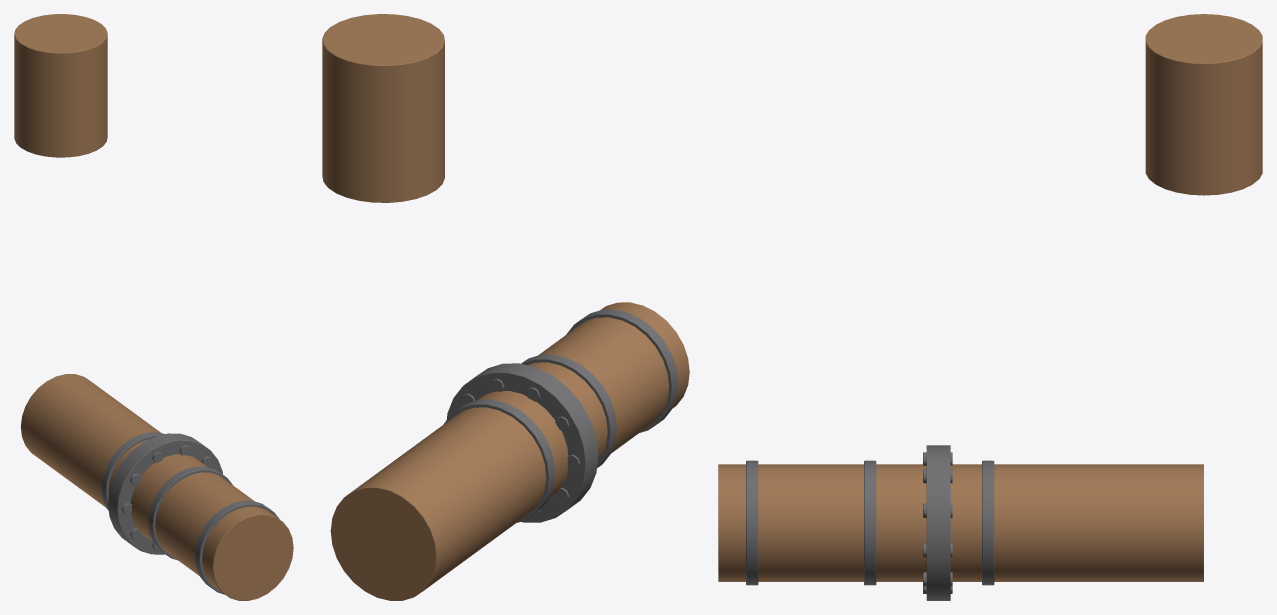
File: LV_pipe_flange.fbx
3 renders of one model, left to right at view 1: azimuth 30°, elevation 25°; view 2: azimuth 150°, elevation 25°; view 3: azimuth 270°, elevation 25°, orthographic. The views are drawn at different scales.
Visible parts, largest first — view 1: LV_pipe_flange; view 2: LV_pipe_flange; view 3: LV_pipe_flange.
Part boxes in pixels (x1,y1,x2,y2): LV_pipe_flange: [14, 14, 293, 600]; LV_pipe_flange: [322, 14, 689, 600]; LV_pipe_flange: [718, 14, 1262, 600].
Size of the model in its own units: 0.45 by 1.76 by 1.57.
